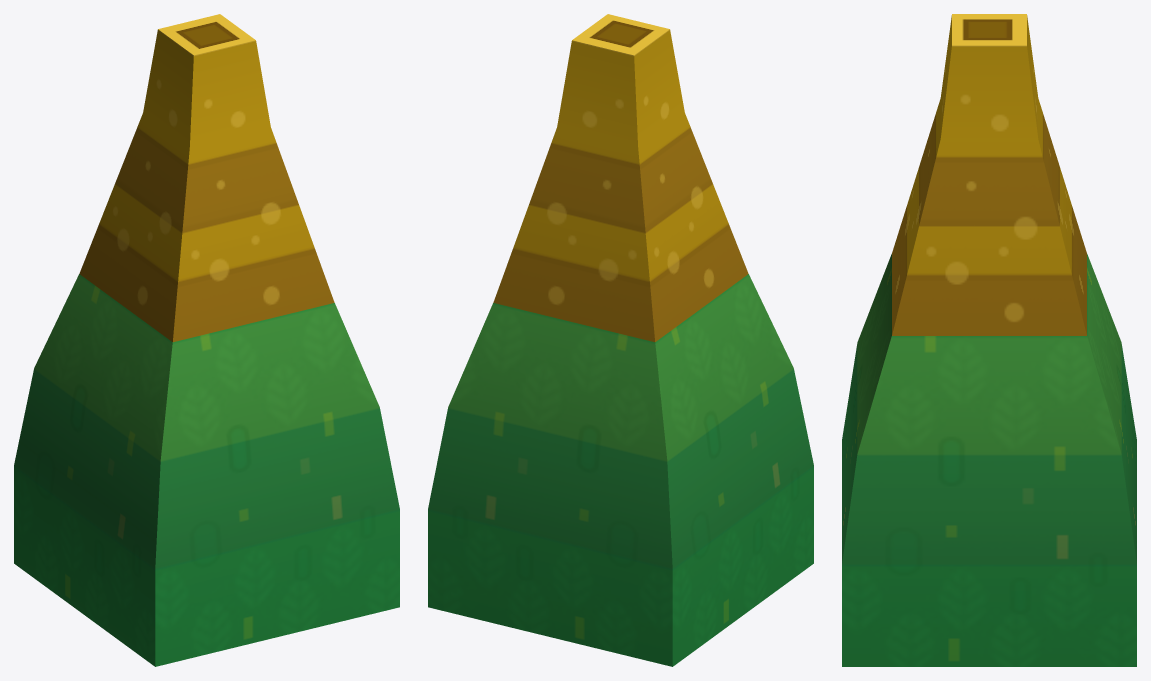
File: BG_012_coral.FBX
3 views of the same model, side by side, from view 1: azimuth 30°, elevation 25°; view 2: azimuth 150°, elevation 25°; view 3: azimuth 270°, elevation 25° (orthographic). The views are drawn at different scales.
Parts seen in each view (by area): view 1: BG1_007_conifer_002, coral_01; view 2: BG1_007_conifer_002, coral_01; view 3: BG1_007_conifer_002, coral_01.
Part boxes in pixels (x1,y1,x2,y2): BG1_007_conifer_002: (14,274,399,666); coral_01: (79,14,334,342); BG1_007_conifer_002: (428,274,813,666); coral_01: (493,14,748,342); BG1_007_conifer_002: (842,254,1136,666); coral_01: (892,14,1086,335).
Bounding box in the file's own units: 141 × 303 × 141.
